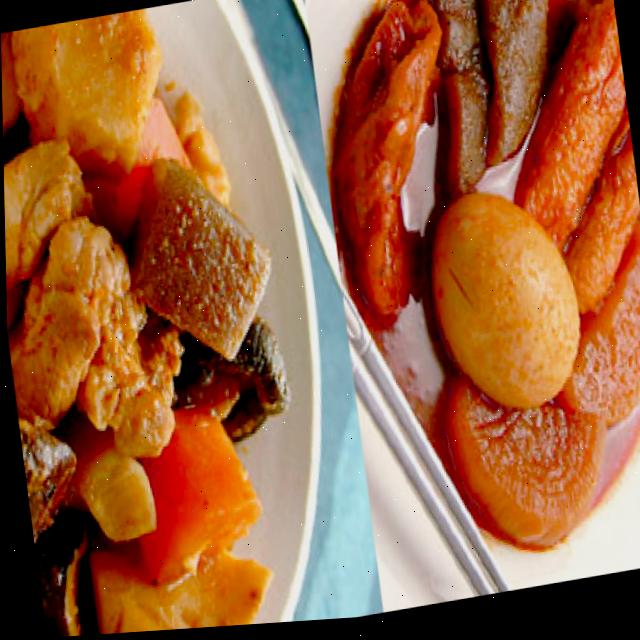鸡肉料理 含炸鸡: (0, 0, 356, 640)
